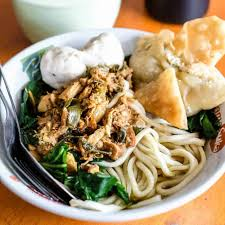bakso: (19, 26, 218, 199)
